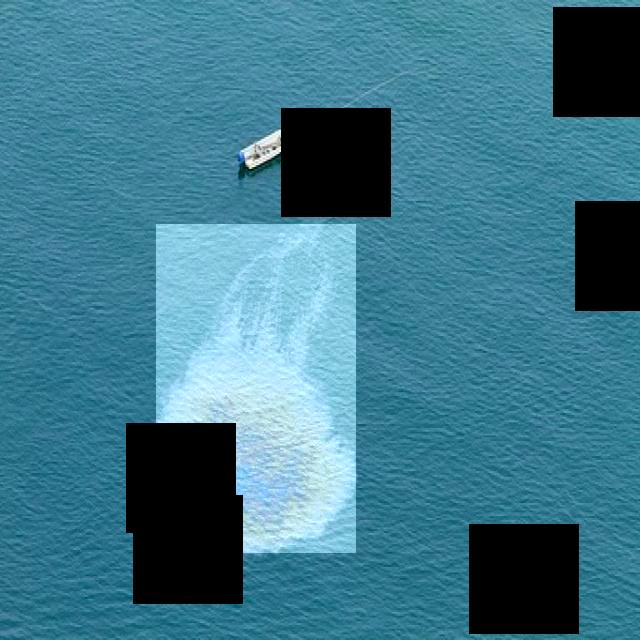oil spill: (156, 225, 356, 553)
